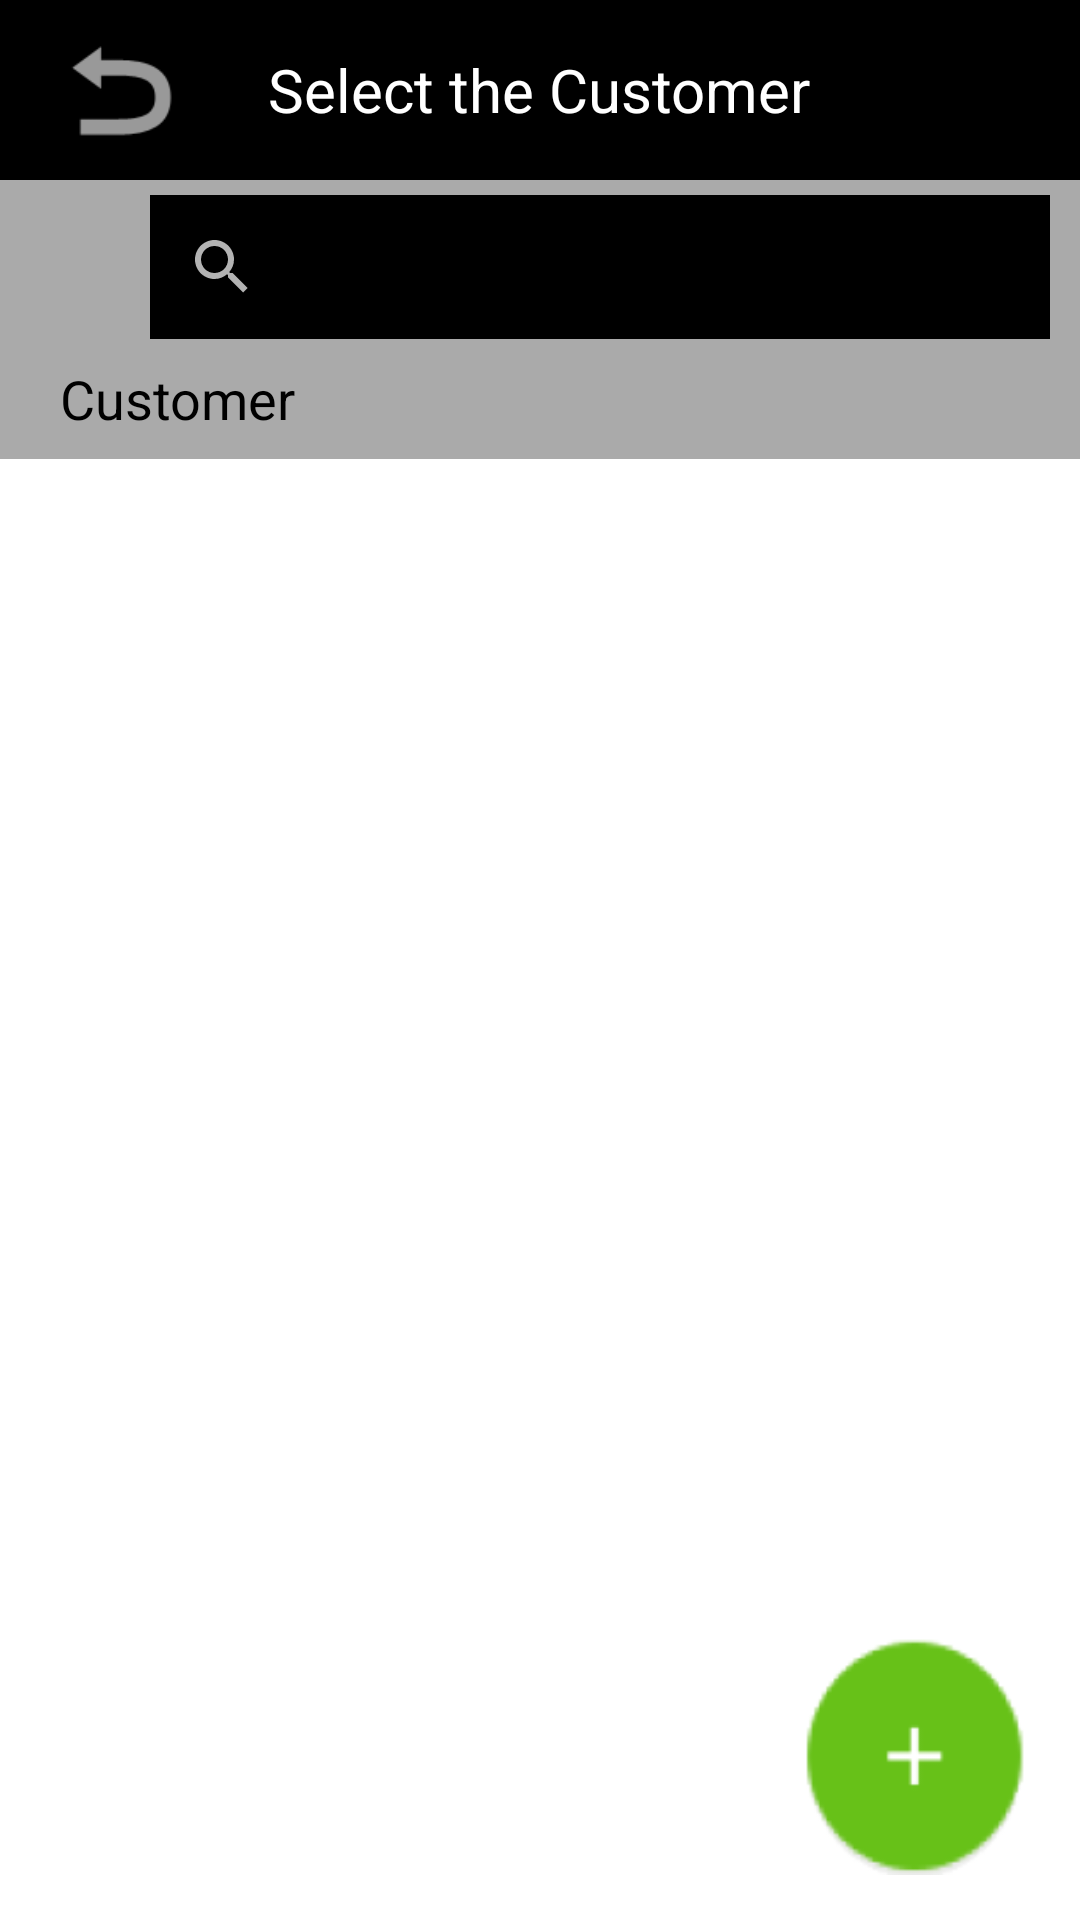

Icons on this 1080w x 1920h Android screen, each with the point to tap as (x=x, y=y):
plus: (x=915, y=1756)
revert: (x=122, y=91)
